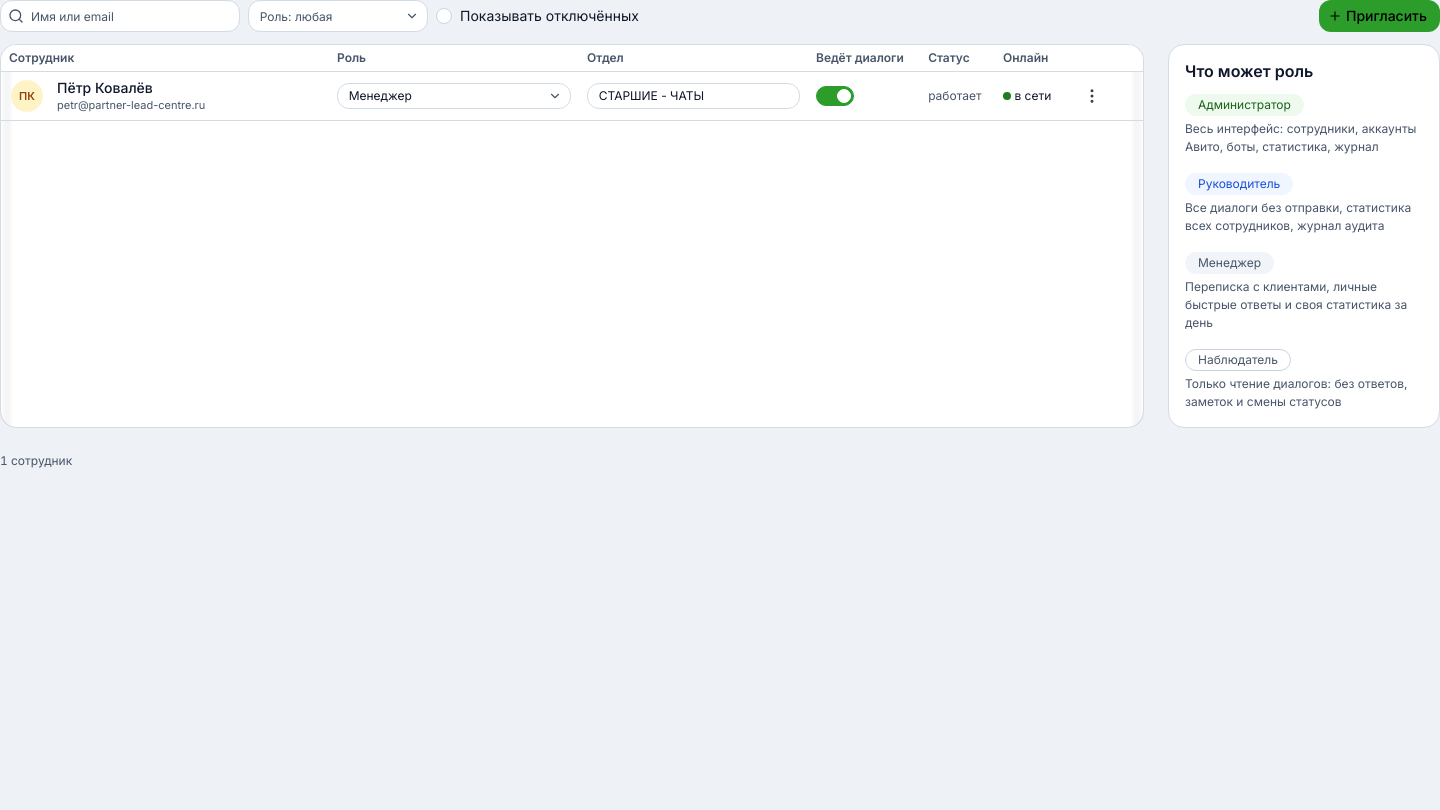
Test: Команда — сохранение видно, ошибка названа честно › 422 «свой пароль меняют в профиле» доходит до экрана дословно
This screenshot has width=1440, height=810.
Expected: the table is shown, top-left (1, 45), bottom-right (1143, 121)
Click the button named "Действия: Пётр Ковалёв": (1092,96) top-left (1072, 76), bottom-right (1112, 116)
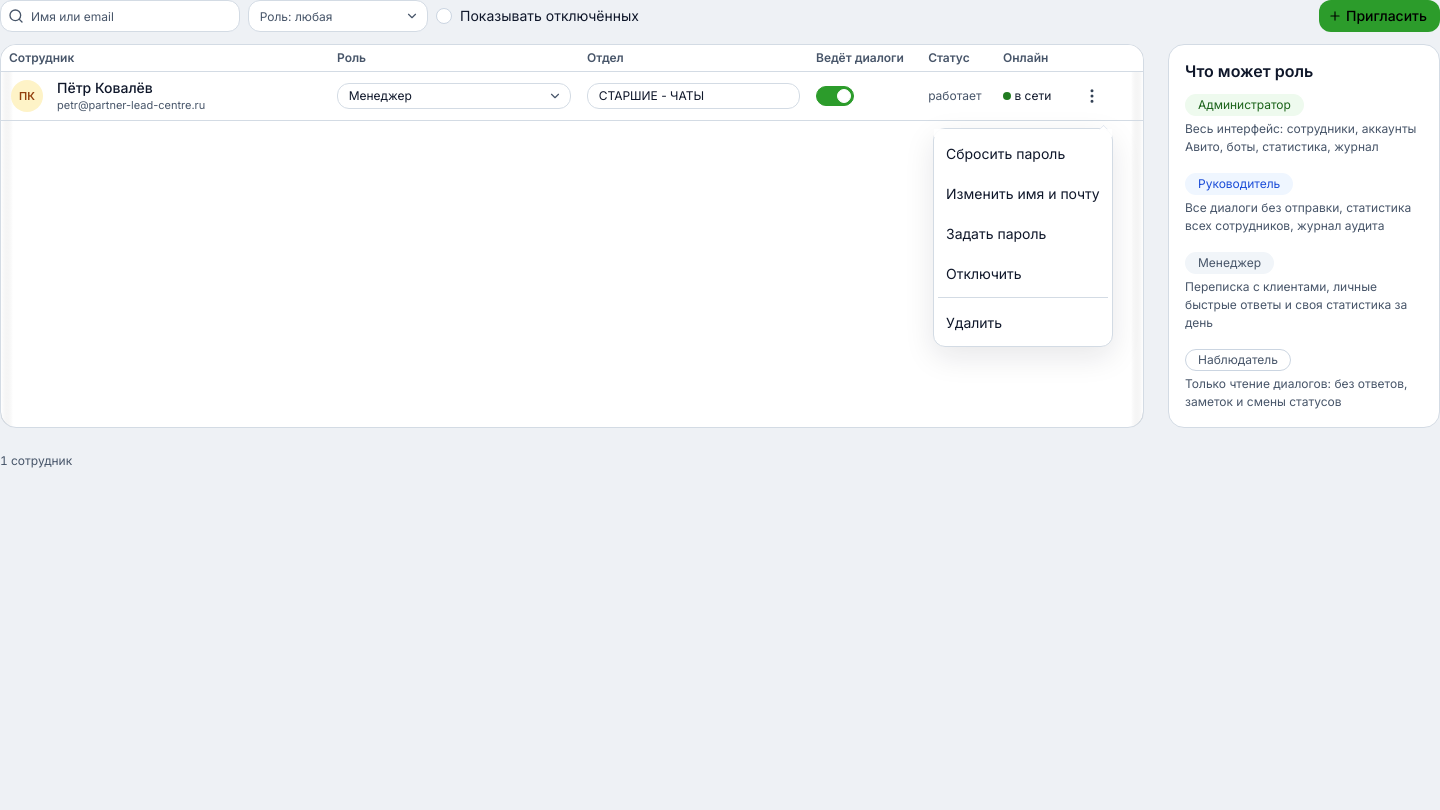
Click the menu item "Задать пароль": (1023,232) top-left (938, 212), bottom-right (1107, 252)
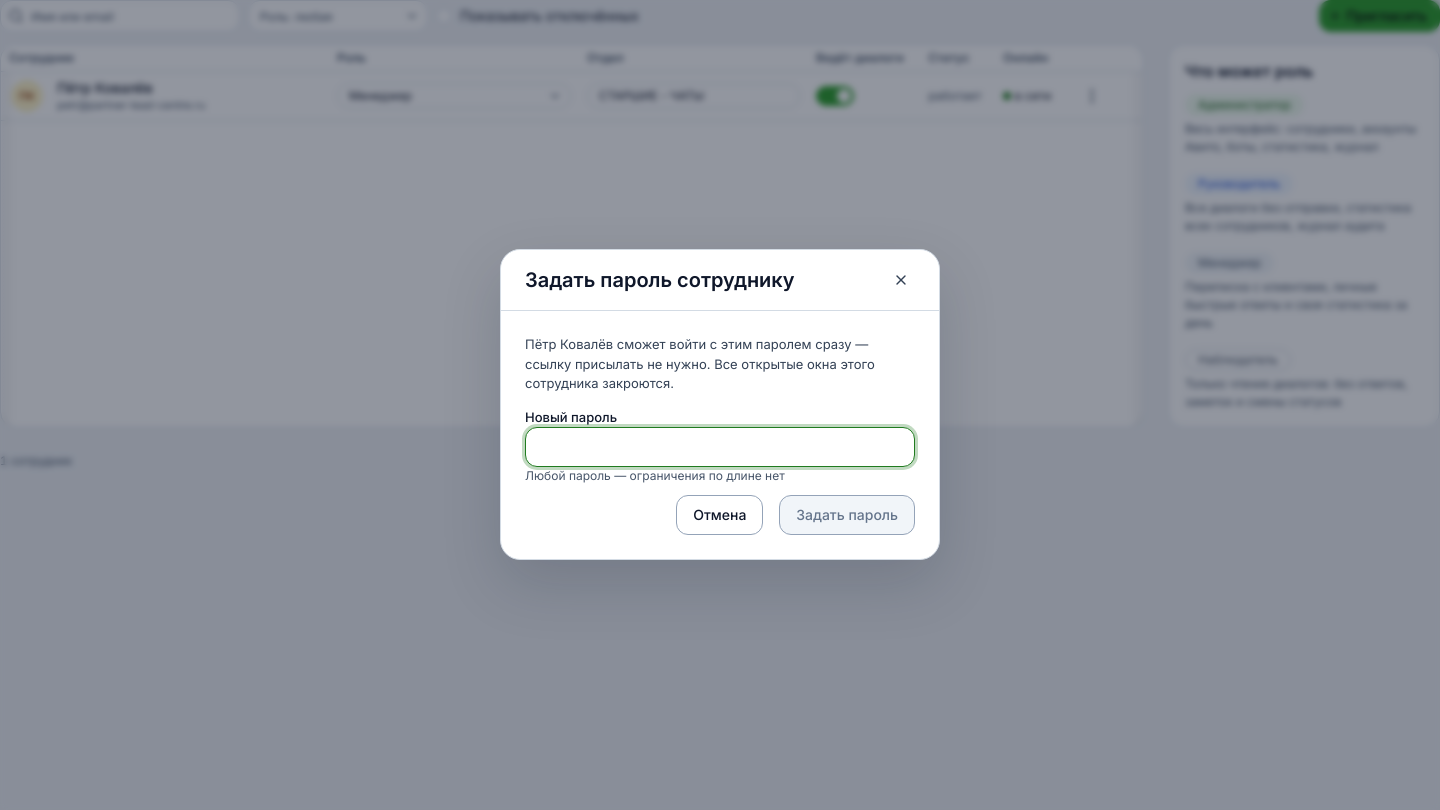
In the field labelled "Новый пароль": (720,447) top-left (525, 427), bottom-right (915, 467), type "ЧайникРемонт7!"
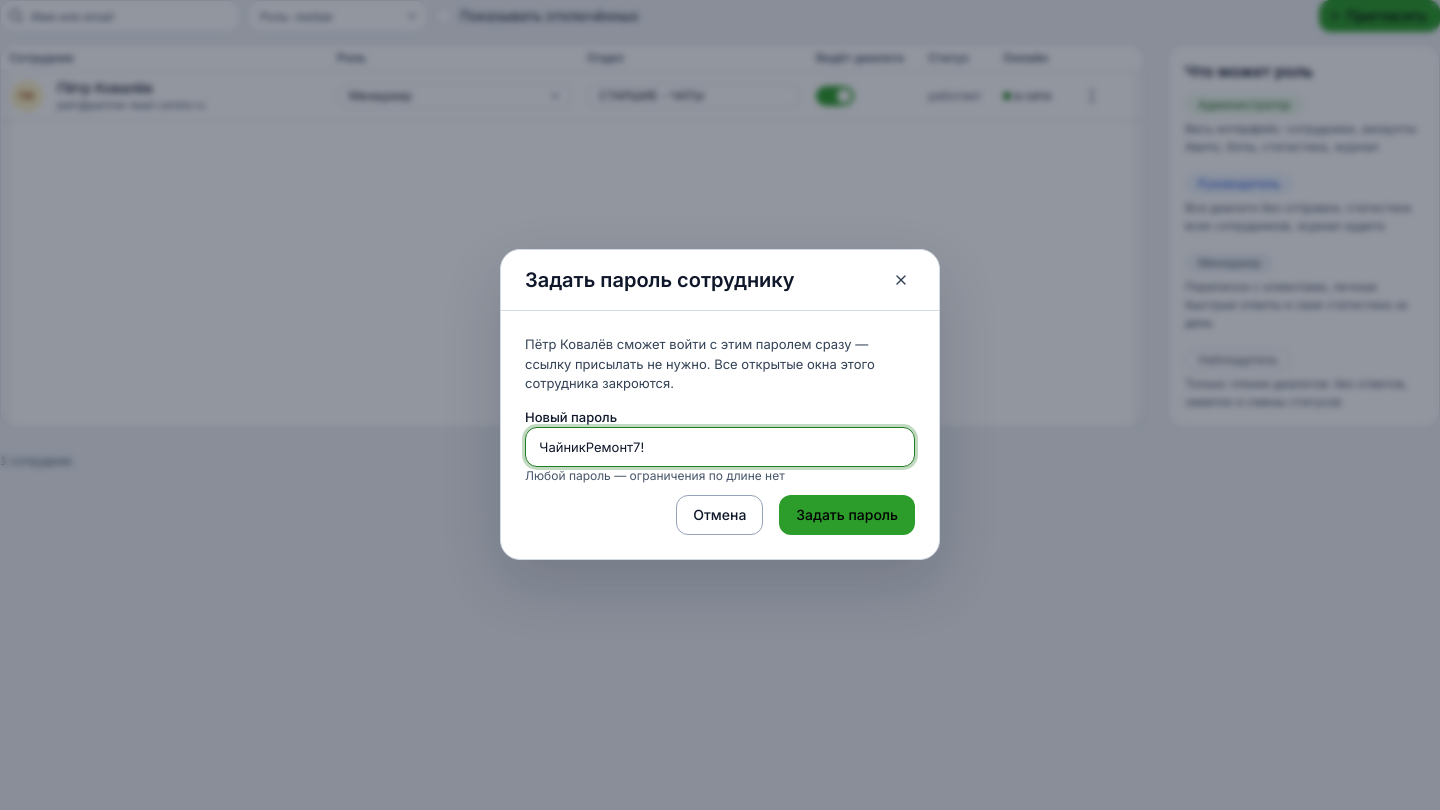
Click the button "Задать пароль": (847,516) top-left (779, 496), bottom-right (915, 536)
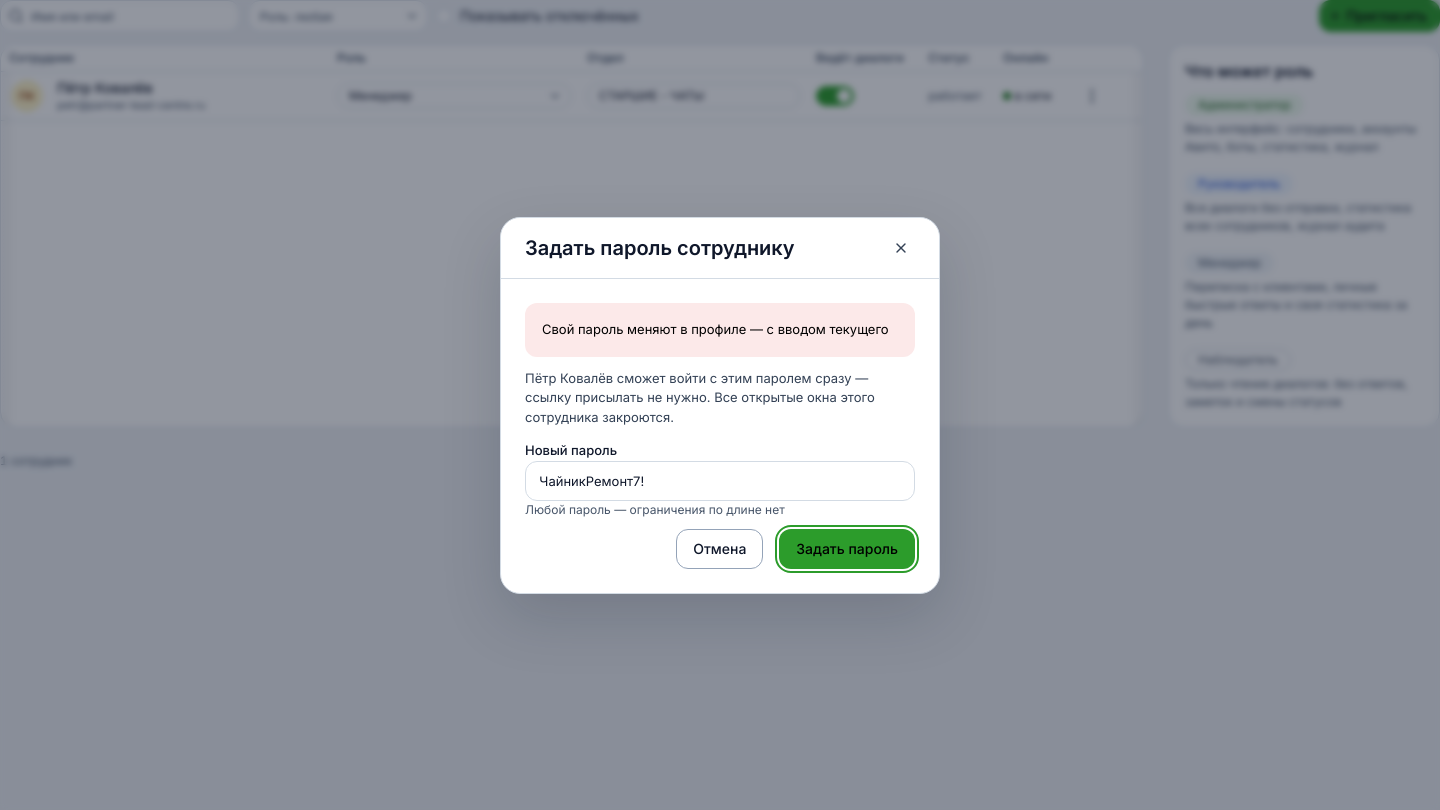
Result: the text "Свой пароль меняют в профиле — с вводом текущего" is shown once at top-left (542, 320), bottom-right (898, 339)
